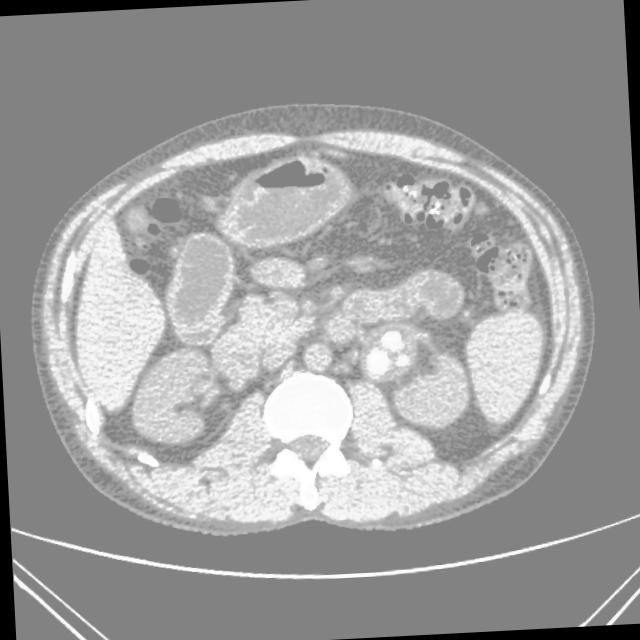STONE: (100, 101, 589, 450)
